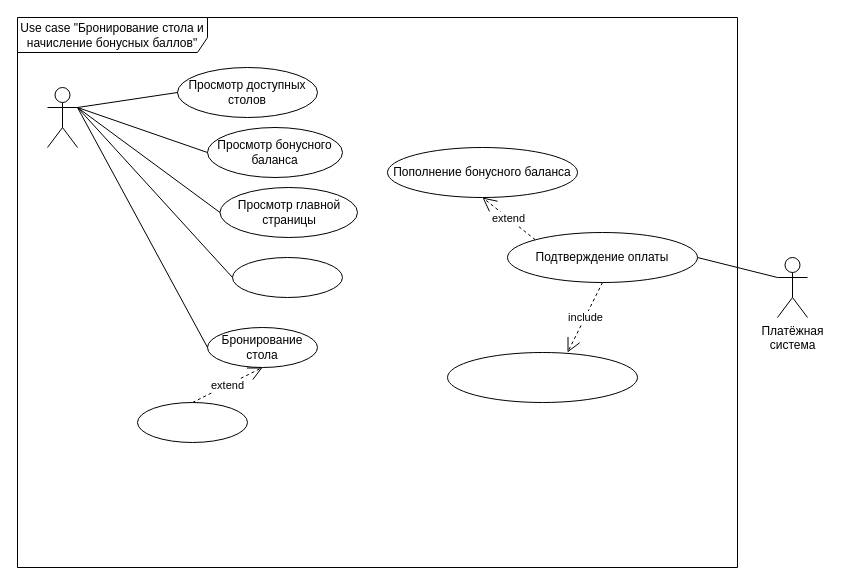
Image size: 841x585. Some labels were removed from this diagram. Each missing label, with the box of its shape:
Данные карты посетителя: (446, 352, 638, 402)
Отмена брони: (136, 402, 248, 442)
Пользователь мобильного приложения: (46, 86, 78, 148)
Регистрация: (232, 256, 342, 298)
